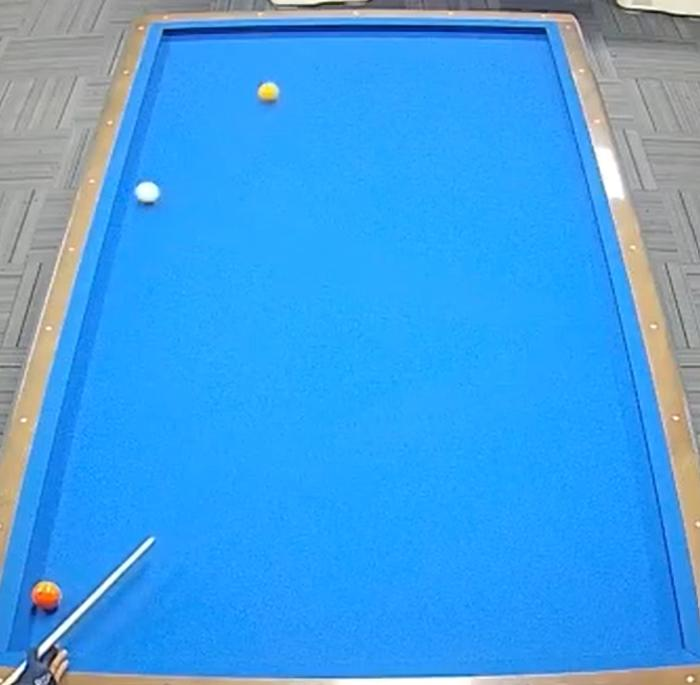orange ball: (27, 579, 67, 619)
white ball: (131, 177, 162, 216)
yellow ball: (252, 78, 289, 111)
